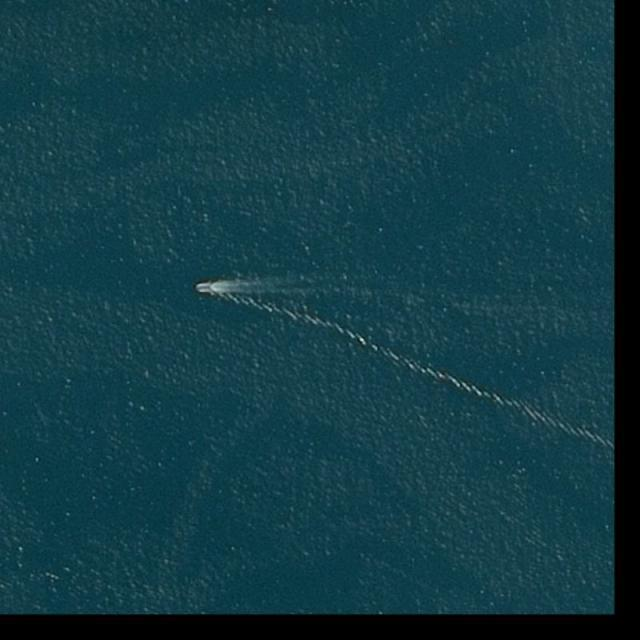ship: (195, 285, 211, 290)
